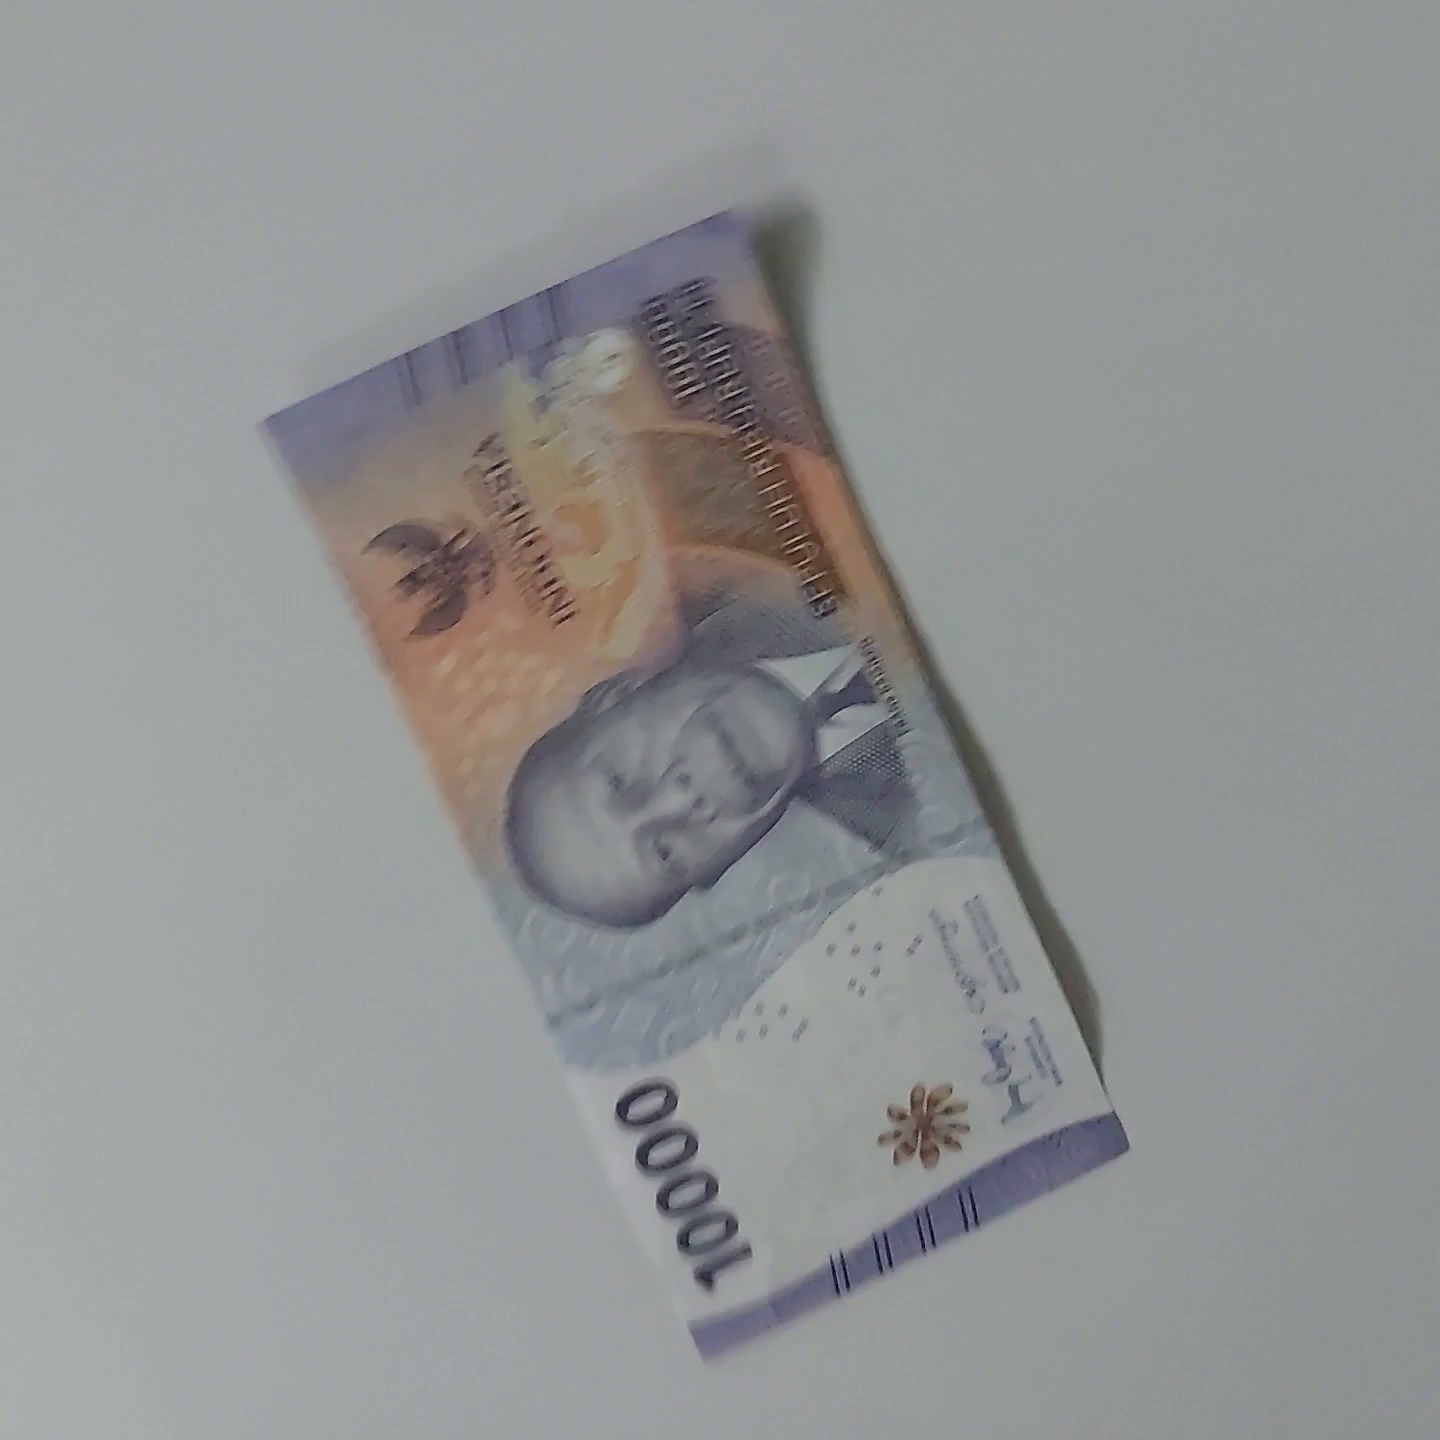10k: (243, 219, 1159, 1353)
